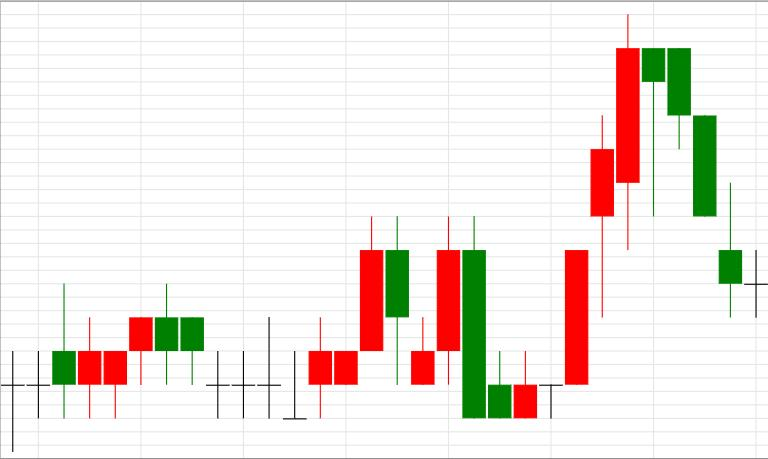hanging_man_fall: (514, 14, 665, 418)
